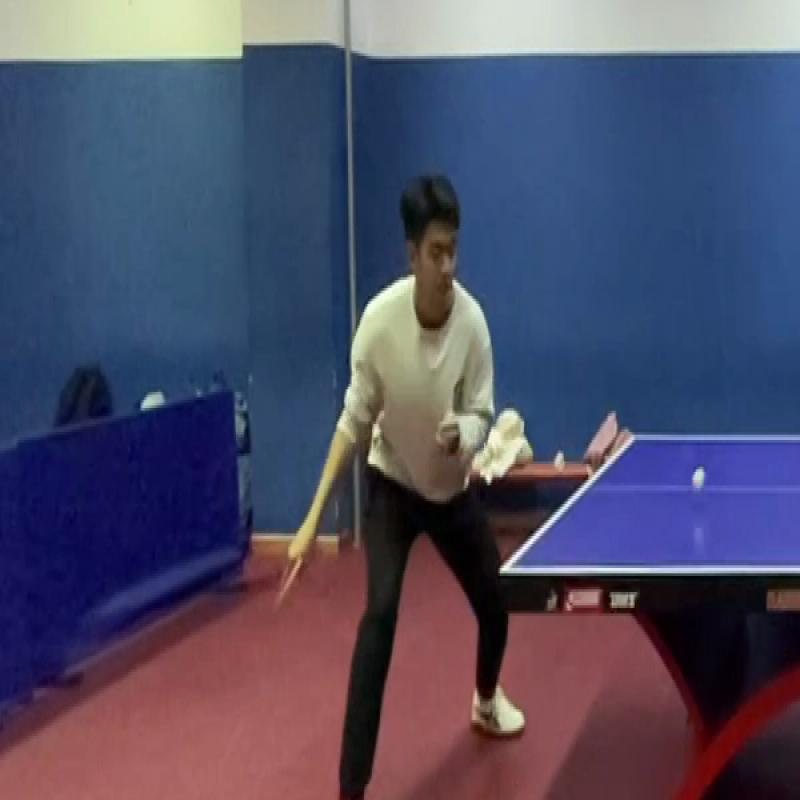bats: (277, 540, 320, 616)
